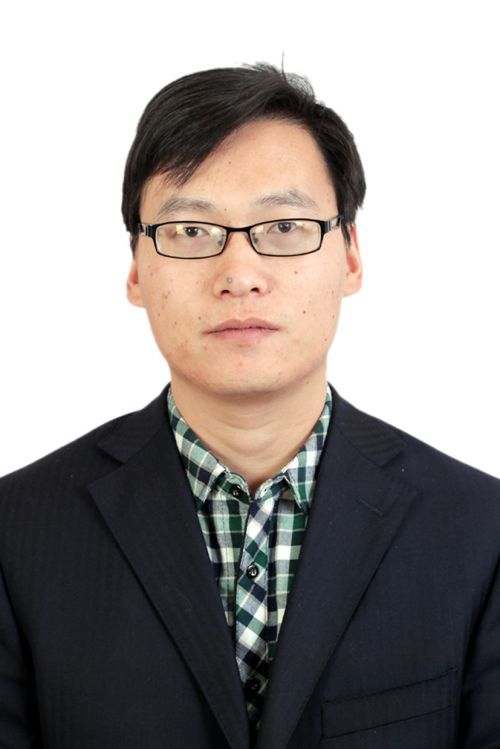unmask: (148, 158, 350, 380)
